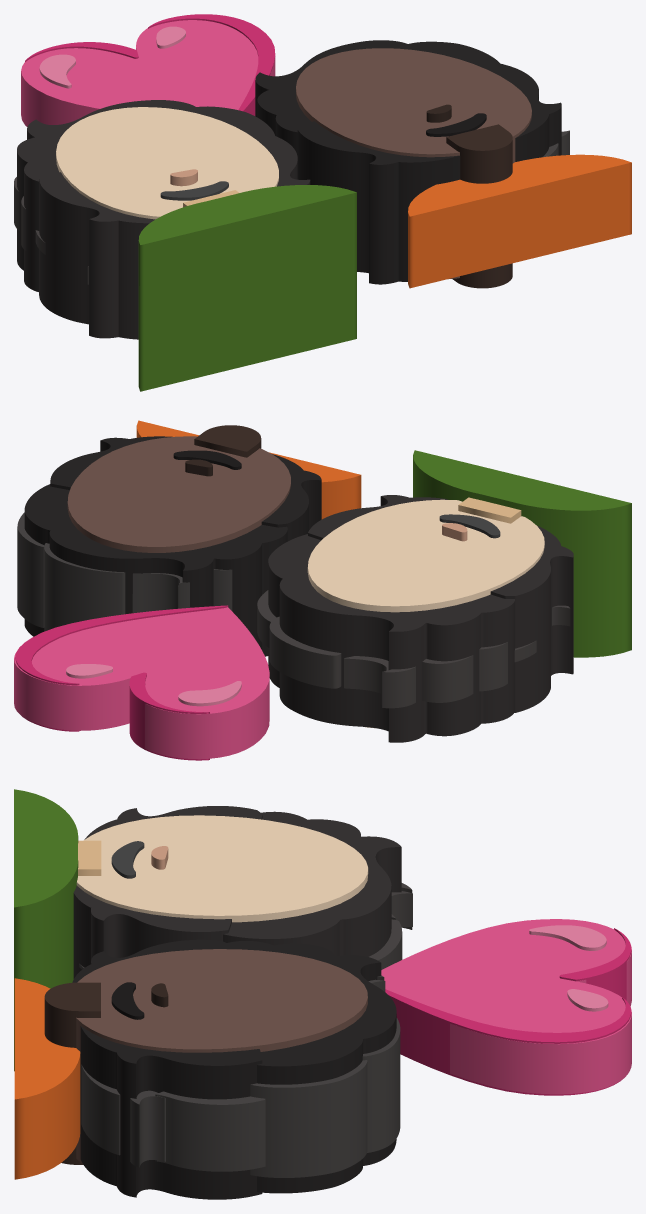
File: emoji_u1f9d1_1f3fb_200d_2764_200d_1f9d1_1f3ff.glb
3 views of the same model, one above another, from view 1: azimuth 30°, elevation 25°; view 2: azimuth 150°, elevation 25°; view 3: azimuth 270°, elevation 25° (orthographic). The views are drawn at different scales.
Visible parts, largest first — view 1: emoji_u1f9d1_1f3fb_200d_2764_200d_1f9d1_1f3ff; view 2: emoji_u1f9d1_1f3fb_200d_2764_200d_1f9d1_1f3ff; view 3: emoji_u1f9d1_1f3fb_200d_2764_200d_1f9d1_1f3ff.
Boxes of the visible parts, box(x1,y1,x2,y2) form: emoji_u1f9d1_1f3fb_200d_2764_200d_1f9d1_1f3ff: box(14, 14, 631, 391); emoji_u1f9d1_1f3fb_200d_2764_200d_1f9d1_1f3ff: box(14, 420, 631, 760); emoji_u1f9d1_1f3fb_200d_2764_200d_1f9d1_1f3ff: box(14, 789, 631, 1199).
Size of the model in its own units: 0.0345 by 0.0098 by 0.0335.
